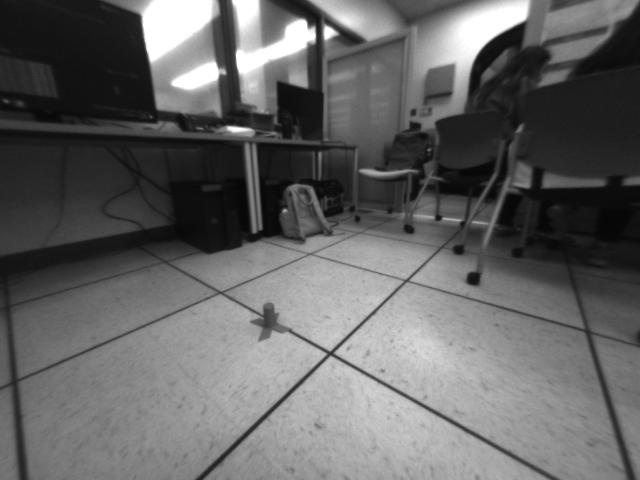X: (249, 301, 293, 342)
